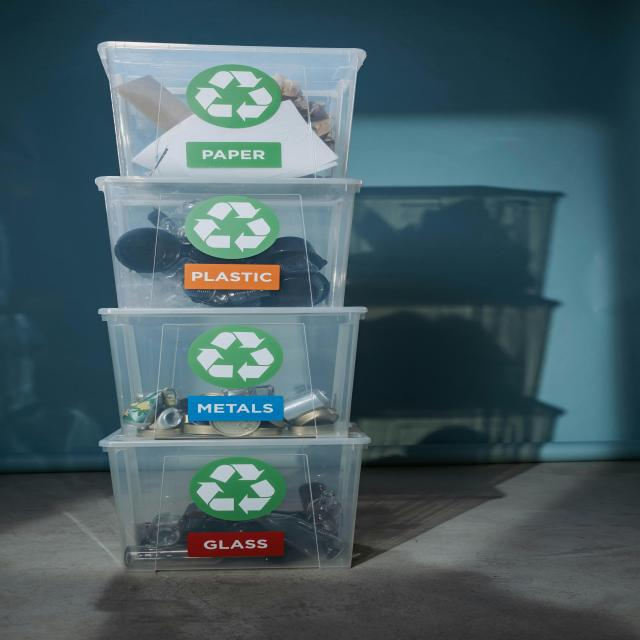metal: (144, 394, 338, 439)
paper: (177, 126, 321, 177)
